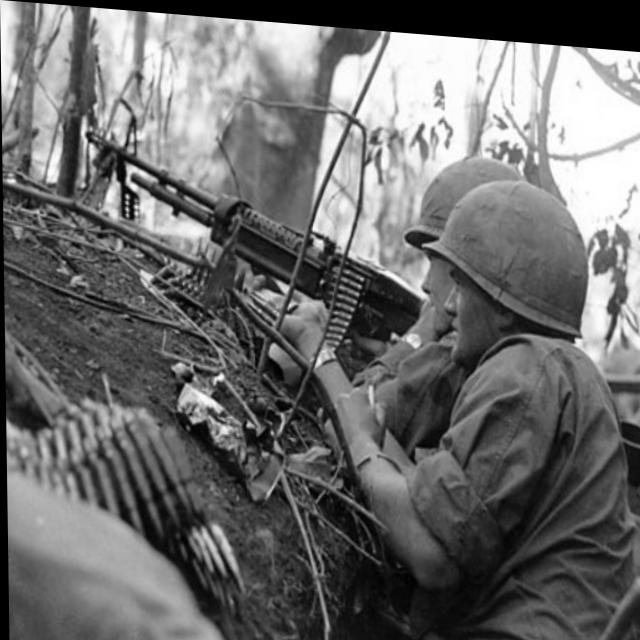other: (296, 115, 640, 640)
